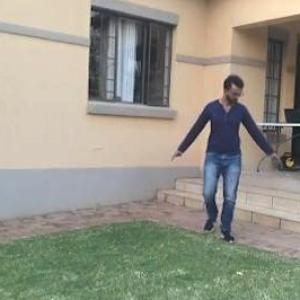land: (167, 74, 273, 250)
